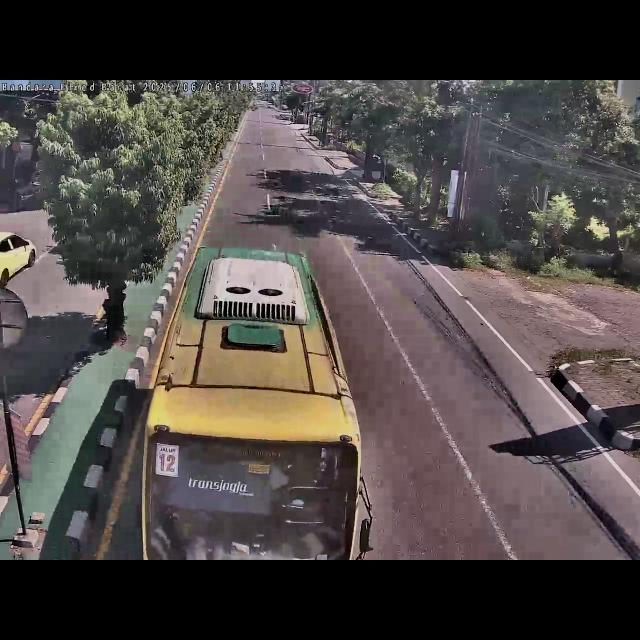Bis: (146, 242, 362, 560)
